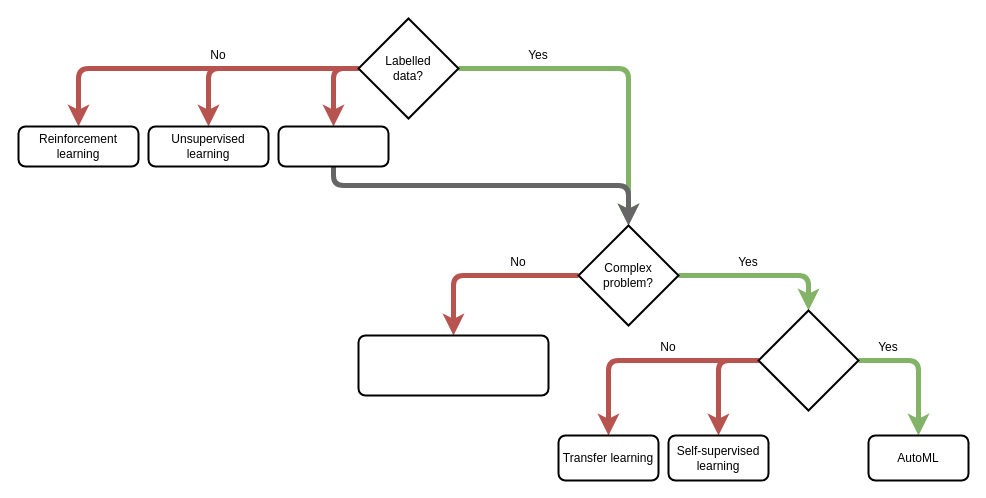
Some shapes in this 986 by 498 pixel diagram are drawn without their labels. Each missing label, with the centre of its shape:
"Label data" goes at (333,146).
"Lots of labelled samples?" goes at (808,360).
"Shallow models (Logistic regression, Random forest, ...)" goes at (453,365).
